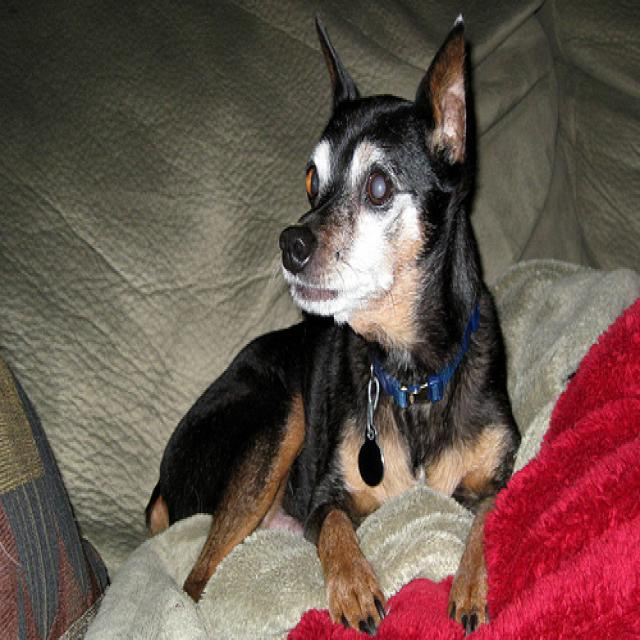dog-miniature_pinscher: (137, 6, 526, 636)
